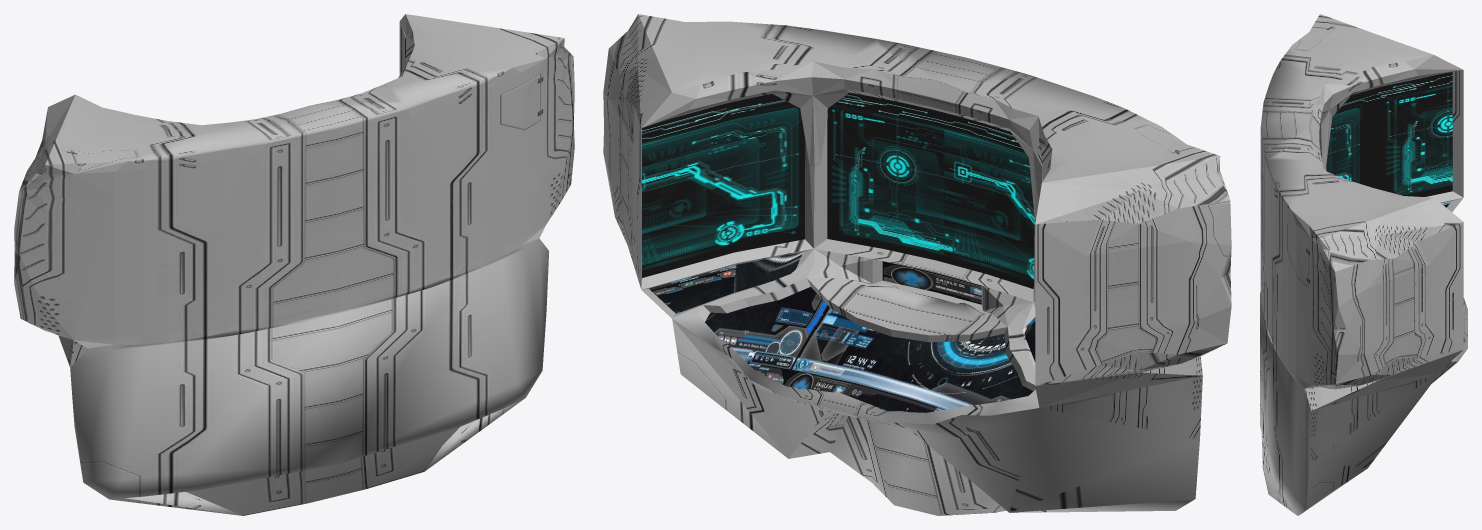
File: table.glb
3 views of the same model, side by side, from view 1: azimuth 30°, elevation 25°; view 2: azimuth 150°, elevation 25°; view 3: azimuth 270°, elevation 25° (orthographic). The views are drawn at different scales.
Parts seen in each view (by area): view 1: MaterialFBXASC032FBXASC0352142150880; view 2: MaterialFBXASC032FBXASC0352142150880, MaterialFBXASC032FBXASC0352142148966, MaterialFBXASC032FBXASC0352142148017, MaterialFBXASC032FBXASC0352142148579; view 3: MaterialFBXASC032FBXASC0352142150880, MaterialFBXASC032FBXASC0352142148966.
Boxes of the visible parts, left/top/right/bottom form: MaterialFBXASC032FBXASC0352142150880: left=14, top=14, right=574, bottom=515; MaterialFBXASC032FBXASC0352142150880: left=603, top=14, right=1231, bottom=515; MaterialFBXASC032FBXASC0352142148966: left=642, top=92, right=1034, bottom=288; MaterialFBXASC032FBXASC0352142148017: left=705, top=287, right=1033, bottom=412; MaterialFBXASC032FBXASC0352142148579: left=649, top=252, right=1035, bottom=361; MaterialFBXASC032FBXASC0352142150880: left=1260, top=14, right=1467, bottom=515; MaterialFBXASC032FBXASC0352142148966: left=1326, top=72, right=1452, bottom=196.
Size of the model in its own units: 26.48 by 16.76 by 9.59.
4 materials, 4 textured.
